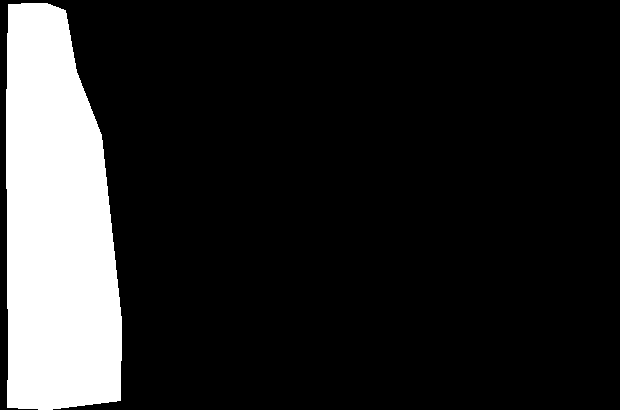type5: (3, 2, 124, 408)
